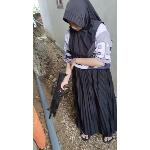Senapan: (46, 70, 70, 120)
